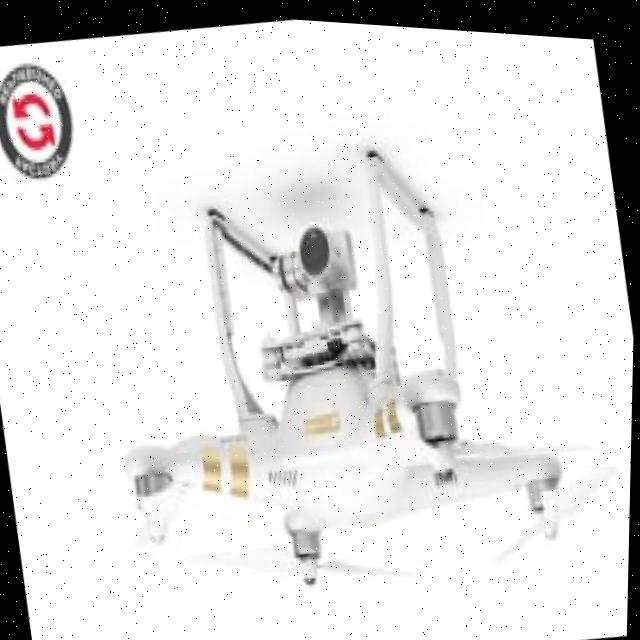drones: (42, 52, 639, 640)
